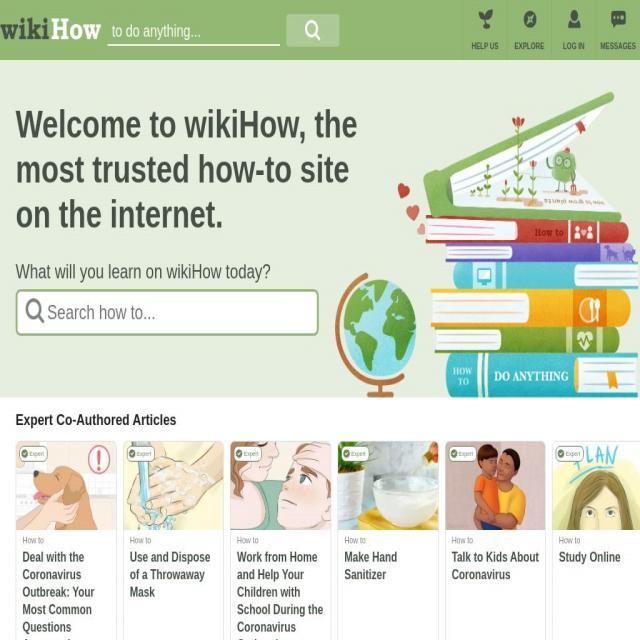login-option: (562, 2, 588, 55)
navigation-blocks: (12, 431, 639, 640)
navigation-links: (469, 3, 635, 57)
search: (16, 290, 320, 340), (109, 16, 350, 56)
